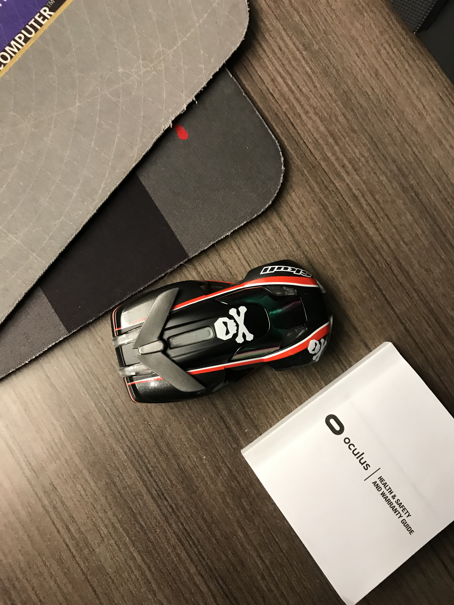Skull: (109, 258, 338, 405)
